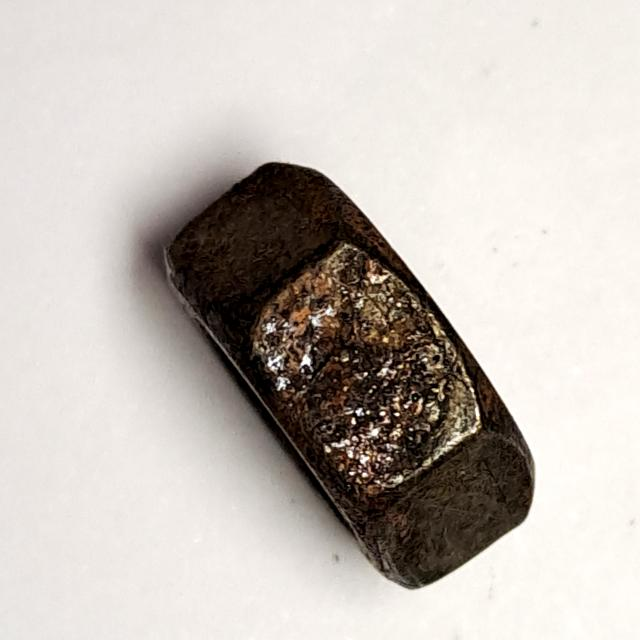Side_Rust: (145, 138, 561, 609)
